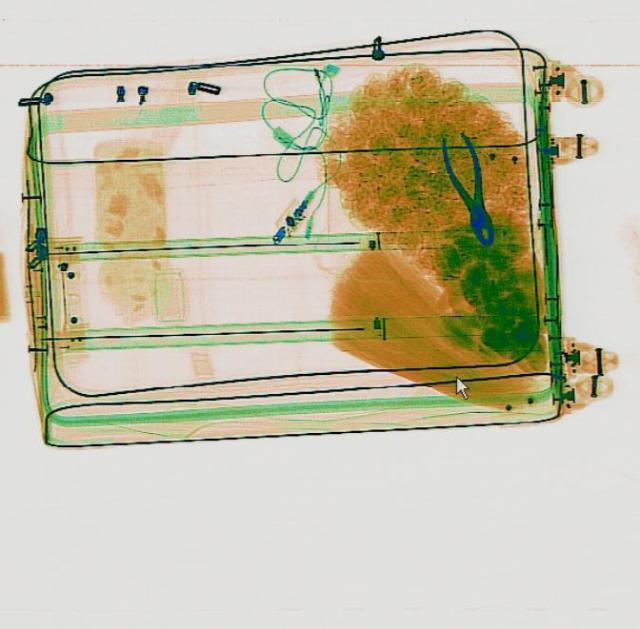Pliers: (435, 128, 505, 250)
